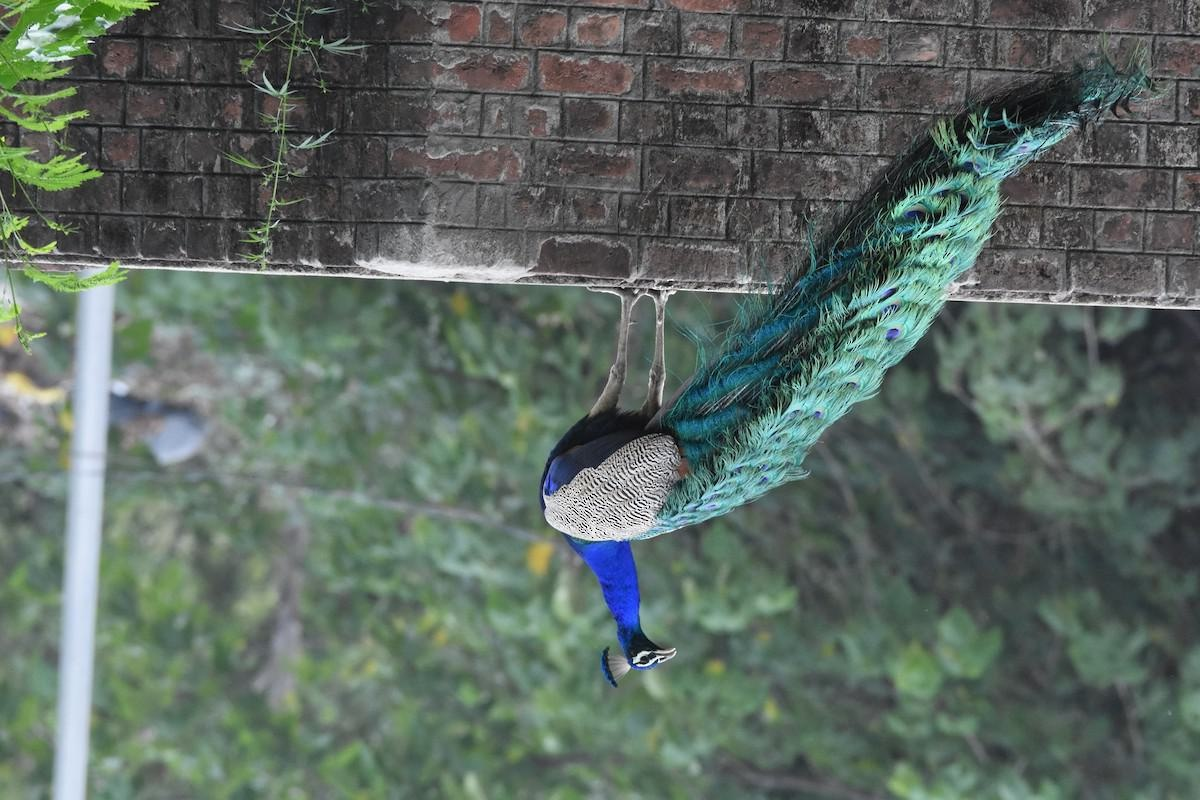peacock: (510, 65, 1170, 732)
